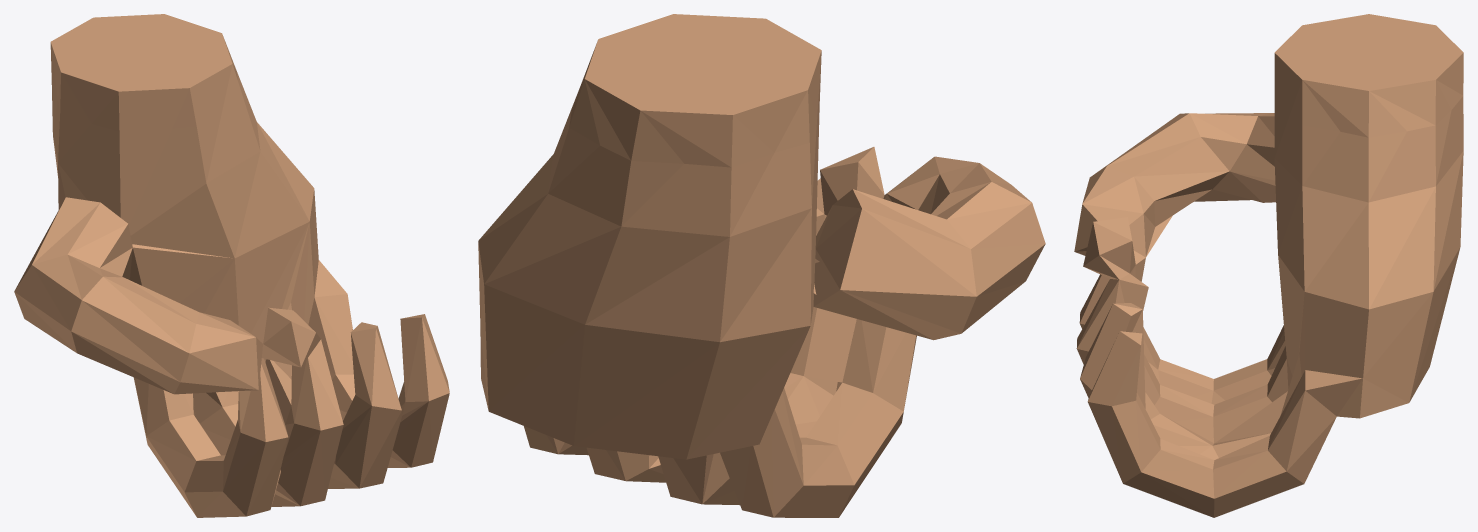
Rendered from grip-right.glb.
3 renders of one model, left to right at view 1: azimuth 30°, elevation 25°; view 2: azimuth 150°, elevation 25°; view 3: azimuth 270°, elevation 25°, orthographic. The views are drawn at different scales.
Visible parts, largest first — view 1: Unified power grip right; view 2: Unified power grip right; view 3: Unified power grip right.
Part boxes in pixels (box(x1,y1,x2,y2)): Unified power grip right: box(14, 14, 449, 517); Unified power grip right: box(478, 14, 1045, 517); Unified power grip right: box(1074, 14, 1463, 517).
Bounding box in the file's own units: 0.116 × 0.1295 × 0.1153.
